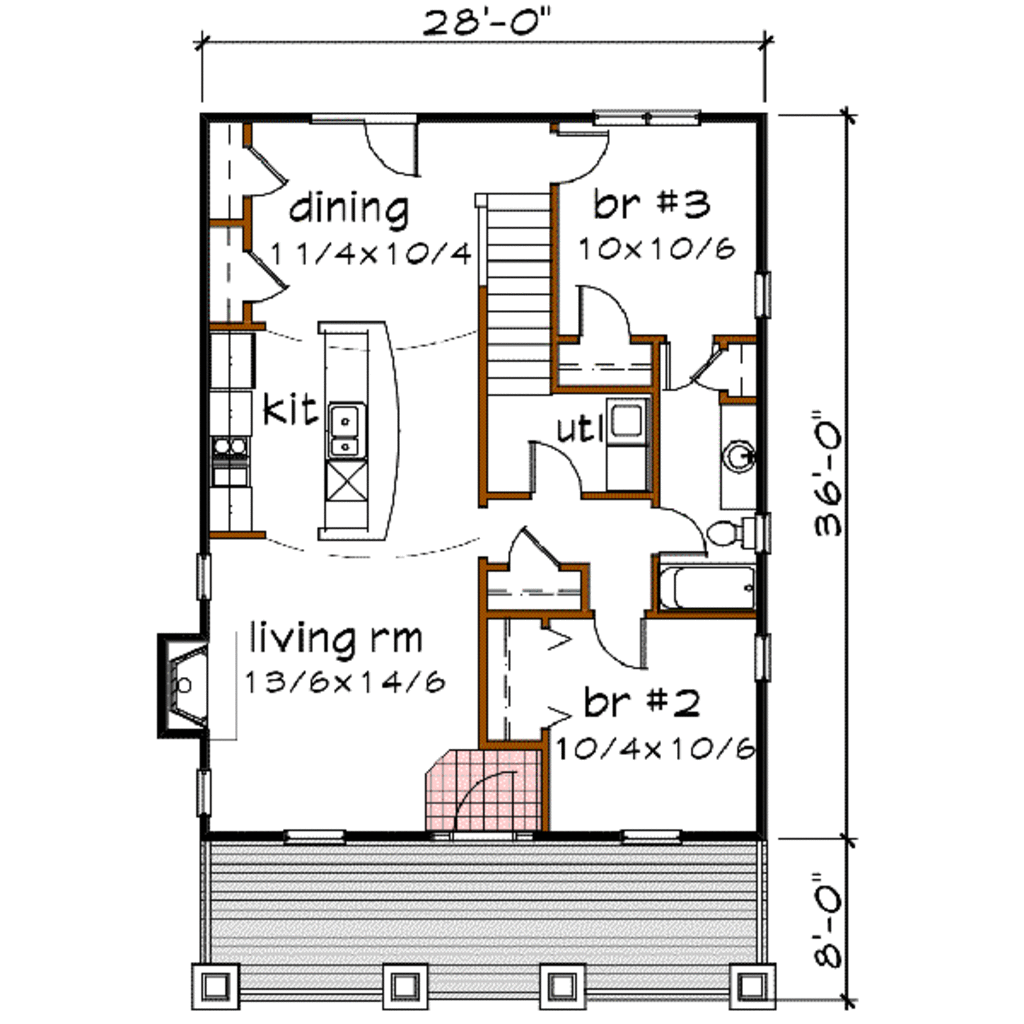door: (578, 603, 663, 671), (364, 116, 423, 190), (458, 768, 515, 838), (647, 498, 712, 557), (526, 438, 588, 498), (578, 282, 636, 344), (550, 125, 610, 184), (239, 246, 291, 311), (237, 141, 291, 200), (688, 338, 747, 392), (505, 520, 566, 571), (661, 335, 713, 392)
kitchen_bar: (307, 300, 415, 547)
large_sink: (698, 516, 767, 554)
small_sink: (721, 406, 767, 505)
stairs: (466, 190, 553, 397)
tub: (645, 563, 767, 620)
twin_sink: (323, 403, 375, 463)
window: (593, 101, 693, 128), (750, 266, 782, 322), (615, 822, 683, 847), (282, 825, 344, 846), (748, 628, 772, 682), (196, 765, 217, 817), (190, 547, 210, 600), (313, 109, 367, 128)
